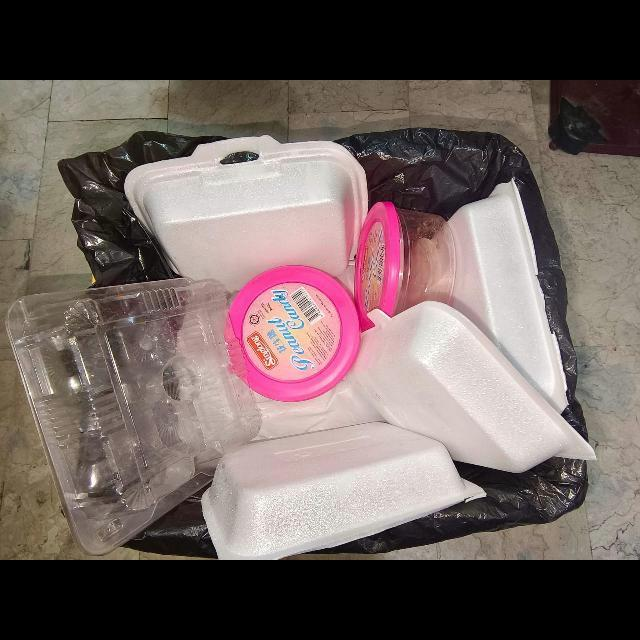plastic_container: (223, 265, 362, 404), (354, 202, 455, 318)
